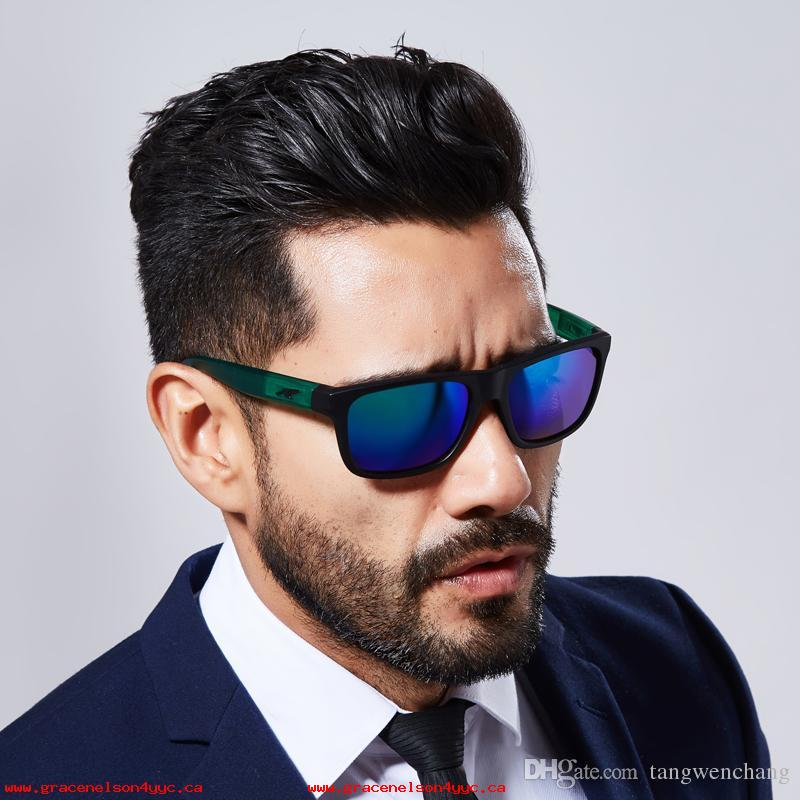sunglasses: (157, 318, 660, 466)
